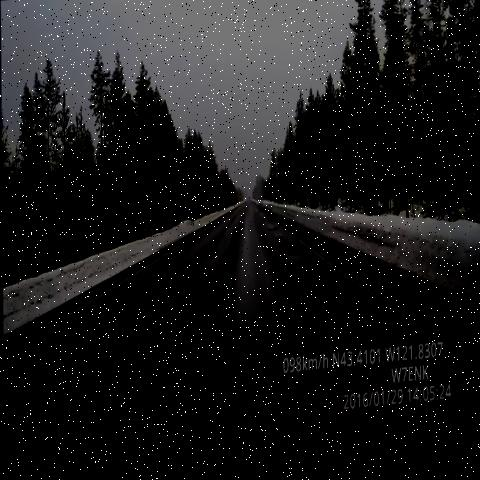pothole: (276, 239, 306, 268), (264, 224, 280, 244), (273, 231, 288, 249)
